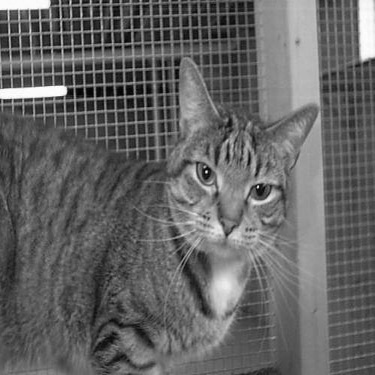cat: (10, 56, 319, 365)
